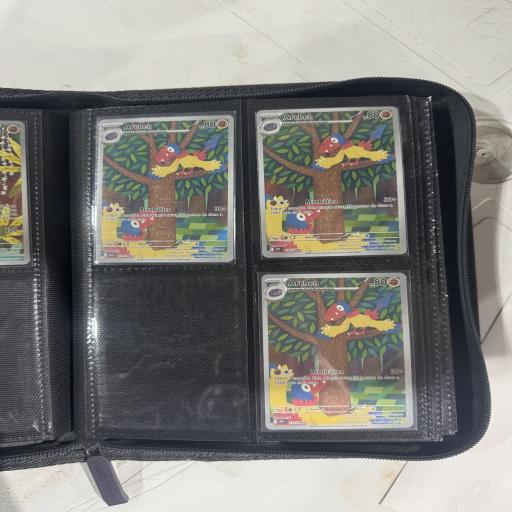card: (261, 272, 416, 432), (255, 103, 408, 261), (92, 116, 234, 265)
